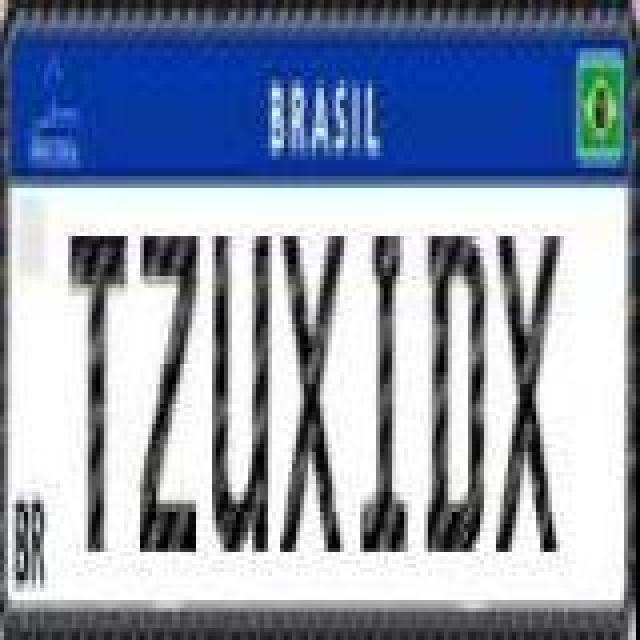D: (424, 230, 484, 554)
I: (360, 230, 412, 554)
T: (68, 230, 128, 554)
U: (212, 230, 272, 554)
X: (280, 224, 348, 560), (492, 224, 560, 560)
Z: (140, 230, 200, 554)
